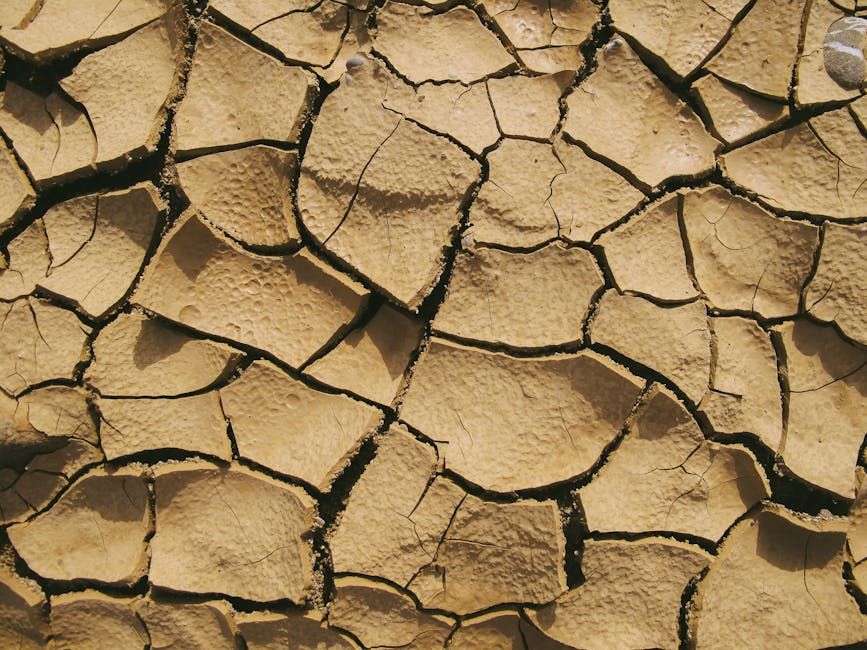网状裂隙: (343, 0, 808, 274)
